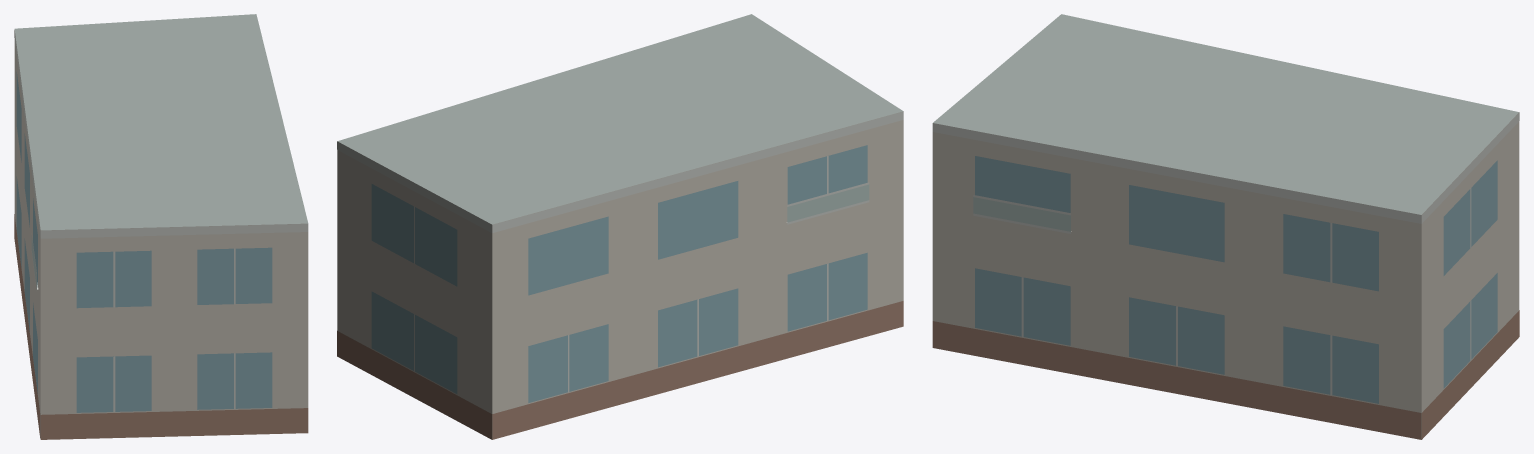
Rendered from survey-upis-32814465.glb.
The picture shows the model from 3 angles, left to right: view 1: azimuth 30°, elevation 25°; view 2: azimuth 150°, elevation 25°; view 3: azimuth 270°, elevation 25°; orthographic projection. The views are drawn at different scales.
Parts seen in each view (by area): view 1: survey-upis-32814465.tmp; view 2: survey-upis-32814465.tmp; view 3: survey-upis-32814465.tmp.
Boxes of the visible parts, x1=… form: survey-upis-32814465.tmp: x1=14, y1=14, x2=308, y2=439; survey-upis-32814465.tmp: x1=337, y1=14, x2=903, y2=439; survey-upis-32814465.tmp: x1=932, y1=14, x2=1519, y2=439.
Bounding box in the file's own units: 11.7 × 6.1 × 14.43.
